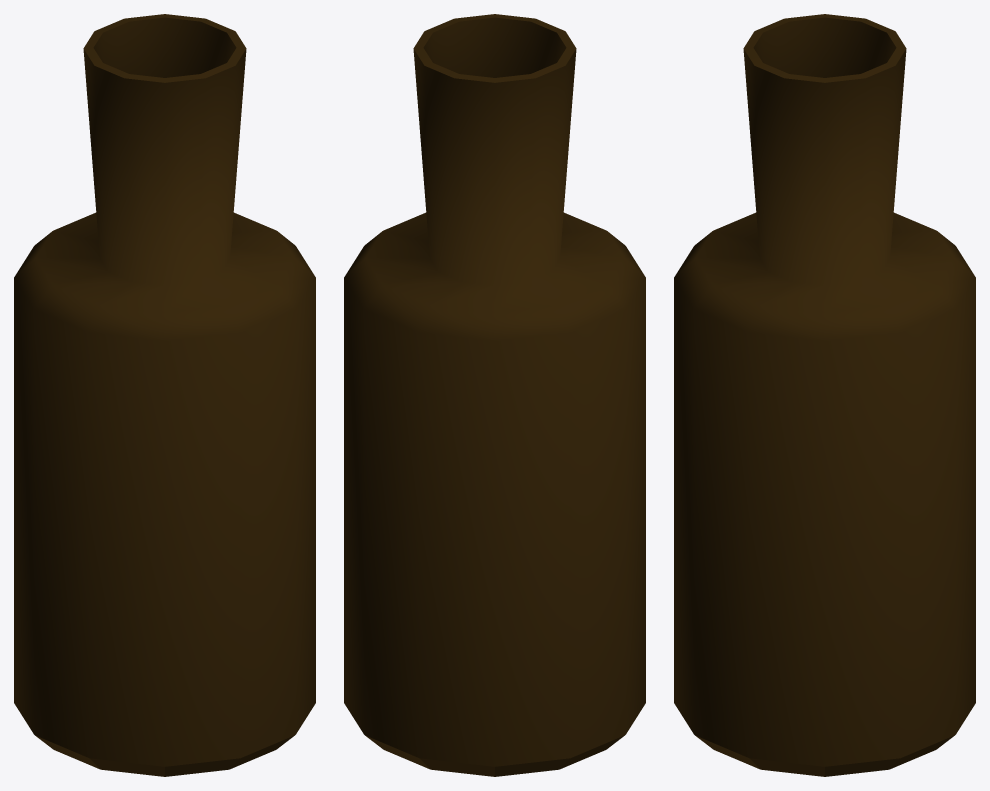
File: chemical_Dropping bottle_c.FBX
The picture shows the model from 3 angles, left to right: view 1: azimuth 30°, elevation 25°; view 2: azimuth 150°, elevation 25°; view 3: azimuth 270°, elevation 25°; orthographic projection.
Parts seen in each view (by area): view 1: chemical_Dropping bottle_c; view 2: chemical_Dropping bottle_c; view 3: chemical_Dropping bottle_c.
Part boxes in pixels (bbox=[...]): chemical_Dropping bottle_c: bbox=[14, 14, 315, 776]; chemical_Dropping bottle_c: bbox=[344, 14, 645, 776]; chemical_Dropping bottle_c: bbox=[674, 14, 975, 776].
Bounding box in the file's own units: 3.32 × 8.2 × 3.32.
